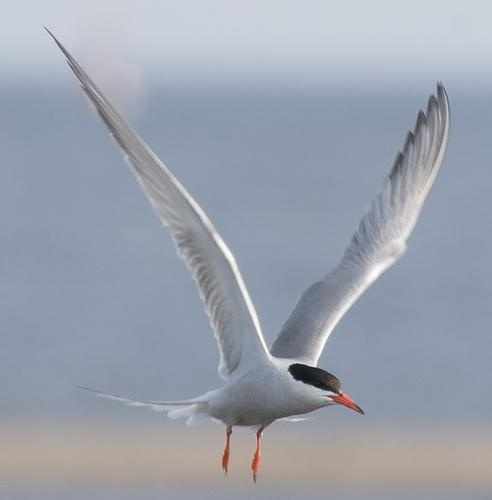bird: (43, 30, 452, 480)
